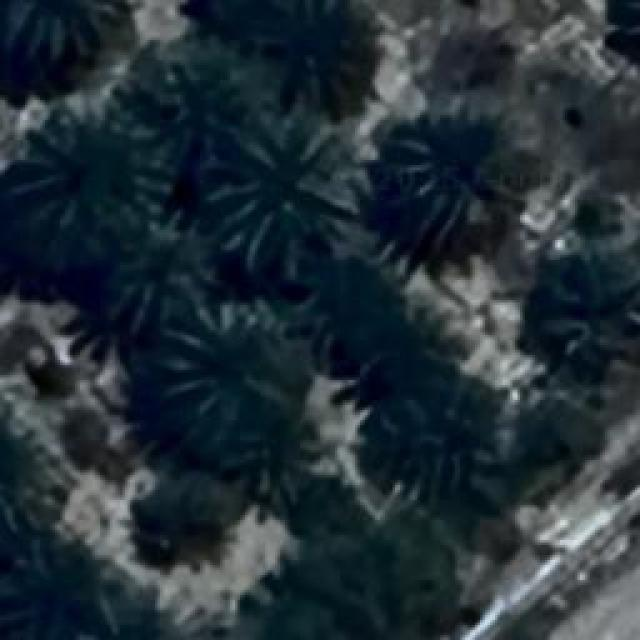PalmTree: (148, 322, 298, 462), (210, 138, 355, 268), (368, 380, 498, 498), (2, 135, 112, 270), (398, 116, 508, 246), (540, 251, 640, 374), (133, 472, 236, 571), (8, 553, 124, 640), (108, 232, 212, 320), (90, 61, 330, 96), (562, 94, 640, 194), (0, 410, 57, 542), (320, 260, 400, 350), (10, 0, 115, 60), (64, 602, 190, 640), (204, 0, 294, 49), (612, 0, 640, 78), (622, 0, 640, 82), (105, 96, 189, 105)
